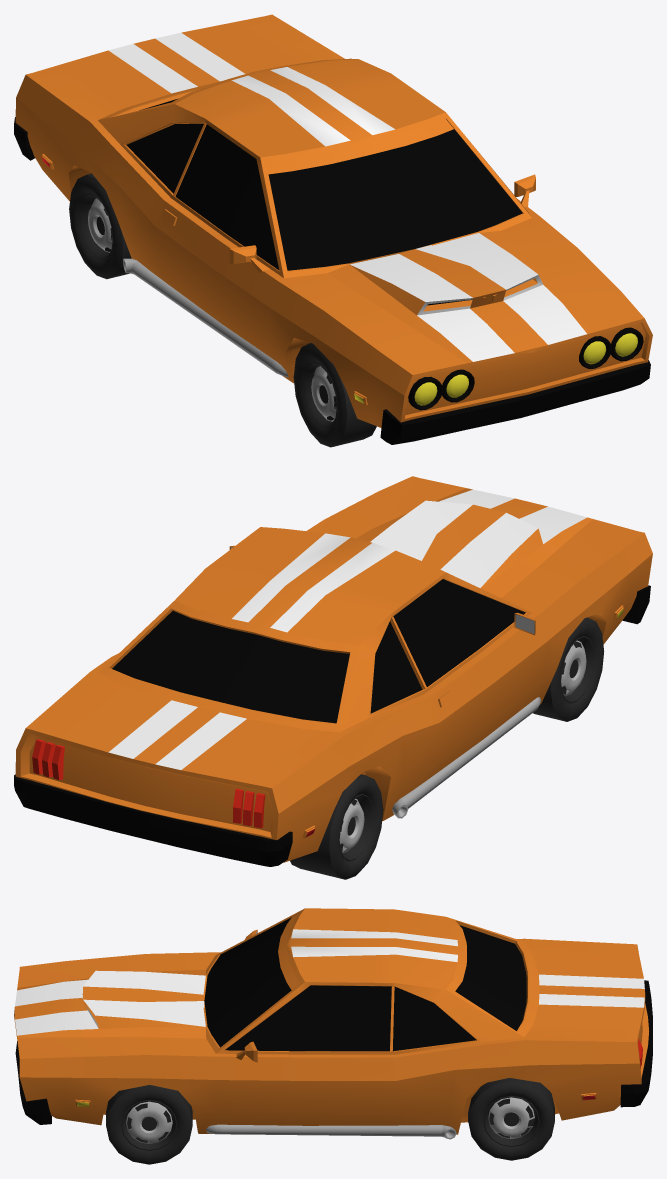
The model's file is MUSTANG (1).fbx.
3 views of the same model, one above another, from view 1: azimuth 30°, elevation 25°; view 2: azimuth 150°, elevation 25°; view 3: azimuth 270°, elevation 25° (orthographic). The views are drawn at different scales.
Visible parts, largest first — view 1: Cube, Cube.001, Cube.005; view 2: Cube, Cube.005, Cube.001; view 3: Cube, Cube.002, Cube.004.
Part boxes in pixels (left/top/right/bottom): Cube: left=14, top=14, right=652, bottom=444; Cube.001: left=293, top=343, right=376, bottom=447; Cube.005: left=69, top=173, right=131, bottom=279; Cube: left=14, top=476, right=652, bottom=866; Cube.005: left=290, top=774, right=383, bottom=879; Cube.001: left=533, top=617, right=604, bottom=721; Cube: left=14, top=908, right=652, bottom=1139; Cube.002: left=468, top=1078, right=554, bottom=1160; Cube.004: left=106, top=1085, right=192, bottom=1164.
Size of the model in its own units: 446 by 294 by 993.
Materials: 1 (1 with a texture image).
